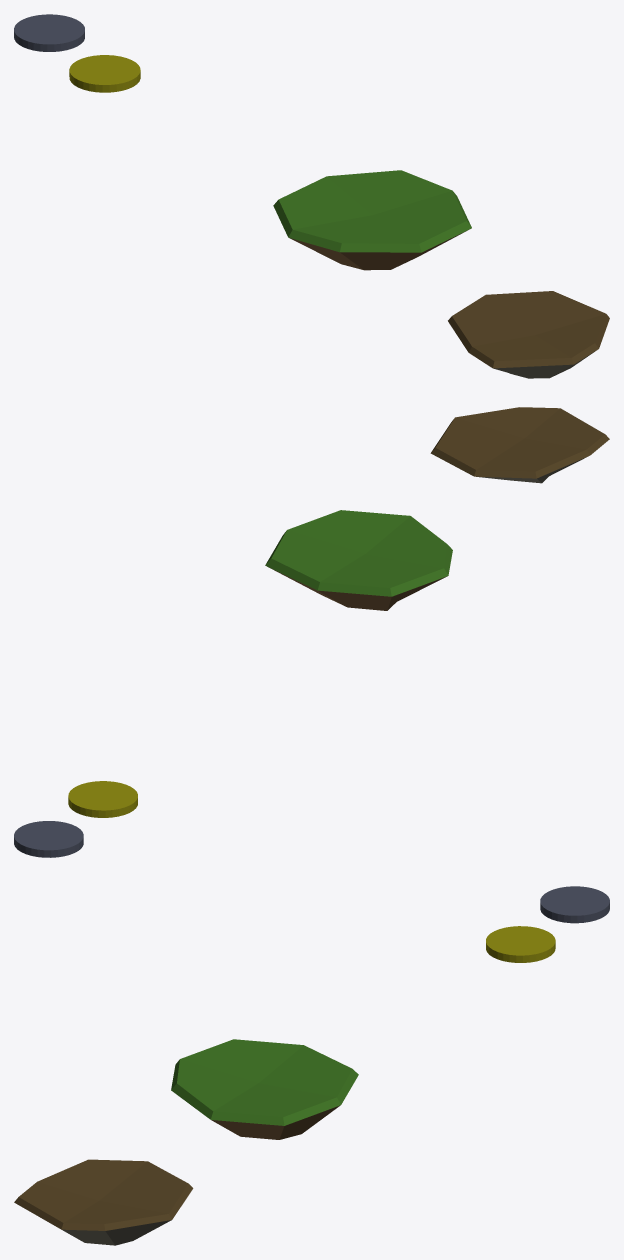
File: Platforms_Plates.fbx
3 renders of one model, top to bottom at view 1: azimuth 30°, elevation 25°; view 2: azimuth 150°, elevation 25°; view 3: azimuth 330°, elevation 25°, orthographic. The views are drawn at different scales.
Visible parts, largest first — view 1: Platform_1, Platform_1.001, Gold_Plate, Silver_Plate; view 2: Platform_1, Platform_1.001, Gold_Plate, Silver_Plate; view 3: Platform_1, Platform_1.001, Silver_Plate, Gold_Plate.
Boxes of the visible parts, x1=… form: Platform_1: x1=273, y1=170, x2=471, y2=270; Platform_1.001: x1=448, y1=291, x2=609, y2=378; Gold_Plate: x1=69, y1=55, x2=140, y2=92; Silver_Plate: x1=14, y1=14, x2=84, y2=51; Platform_1: x1=265, y1=510, x2=452, y2=610; Platform_1.001: x1=430, y1=407, x2=609, y2=483; Gold_Plate: x1=68, y1=781, x2=137, y2=817; Silver_Plate: x1=14, y1=821, x2=83, y2=857; Platform_1: x1=171, y1=1039, x2=358, y2=1139; Platform_1.001: x1=14, y1=1159, x2=193, y2=1245; Silver_Plate: x1=540, y1=886, x2=609, y2=923; Gold_Plate: x1=486, y1=926, x2=555, y2=962.
Bounding box in the file's own units: 6571 × 2357 × 36489.
